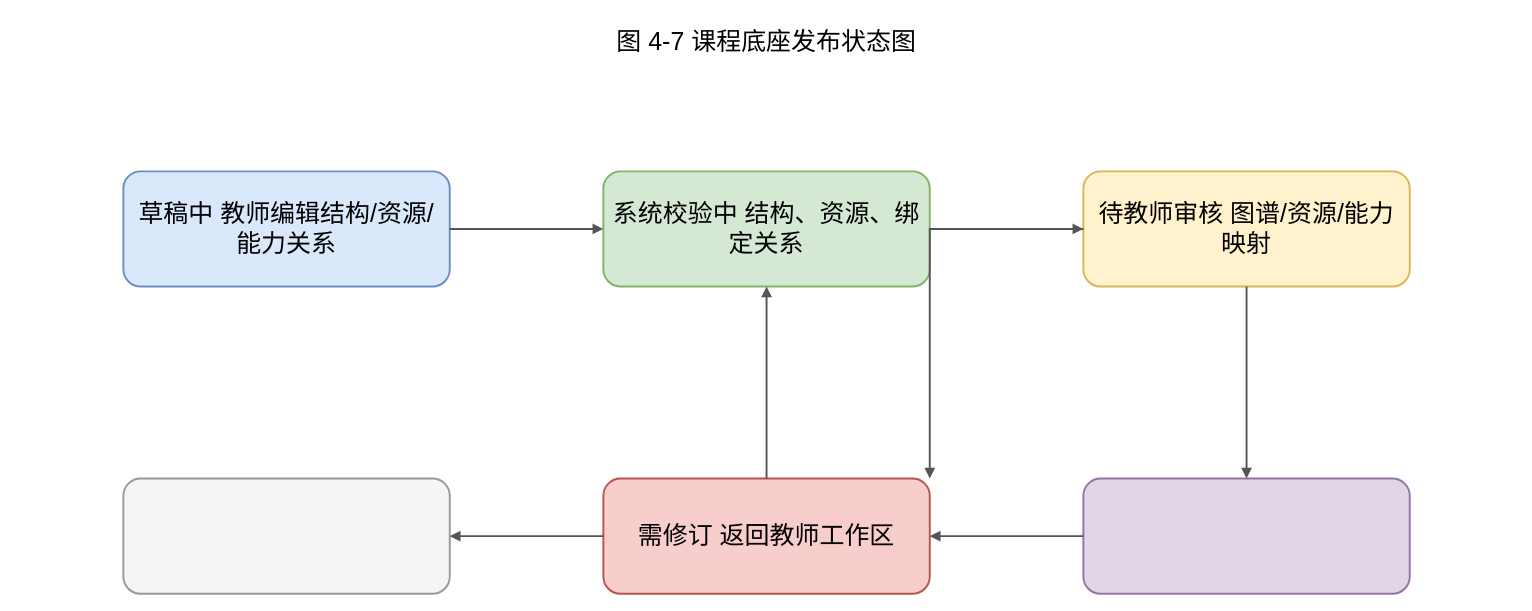
Image size: 1532x611. Some labels were removed from this diagram. The shapes that lost their labels are listed below. From the top down, each one's centre as x and y in pixels, then its label:
pixel 286 535: 历史版本 保留可追溯记录
pixel 1246 535: 已发布 学生端和下游模块读取
